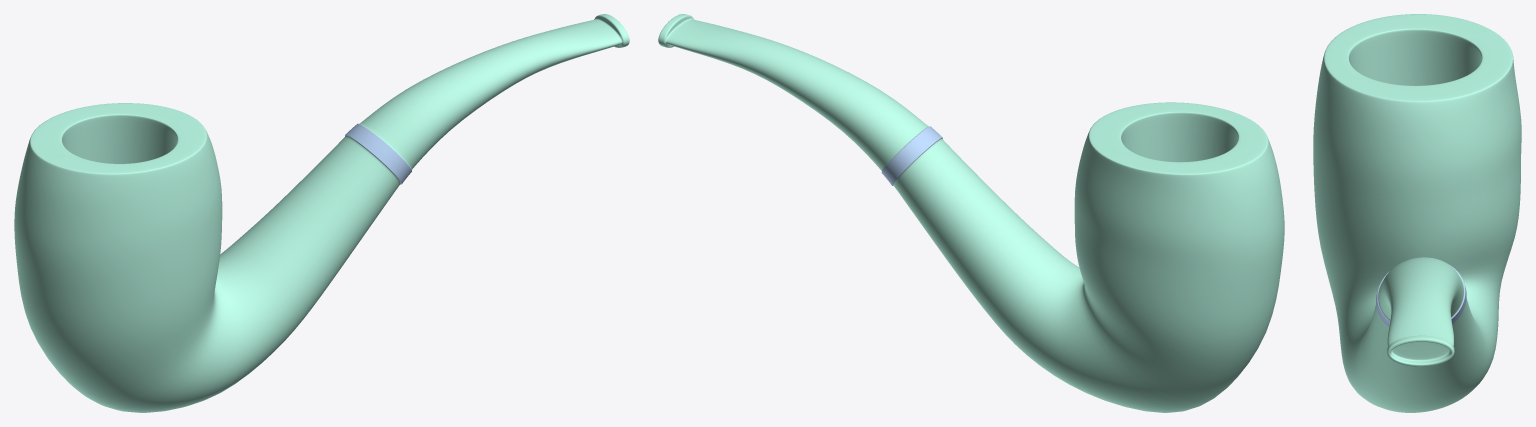
Rendered from pipe.gltf.
3 renders of one model, left to right at view 1: azimuth 30°, elevation 25°; view 2: azimuth 150°, elevation 25°; view 3: azimuth 270°, elevation 25°, orthographic. The views are drawn at different scales.
Parts seen in each view (by area): view 1: pipas; view 2: pipas; view 3: pipas.
Boxes of the visible parts, <box> form: pipas: <box>14,14,629,412</box>; pipas: <box>658,14,1284,412</box>; pipas: <box>1313,14,1521,412</box>.
Size of the model in its own units: 0.3482 by 0.1525 by 0.0923.
